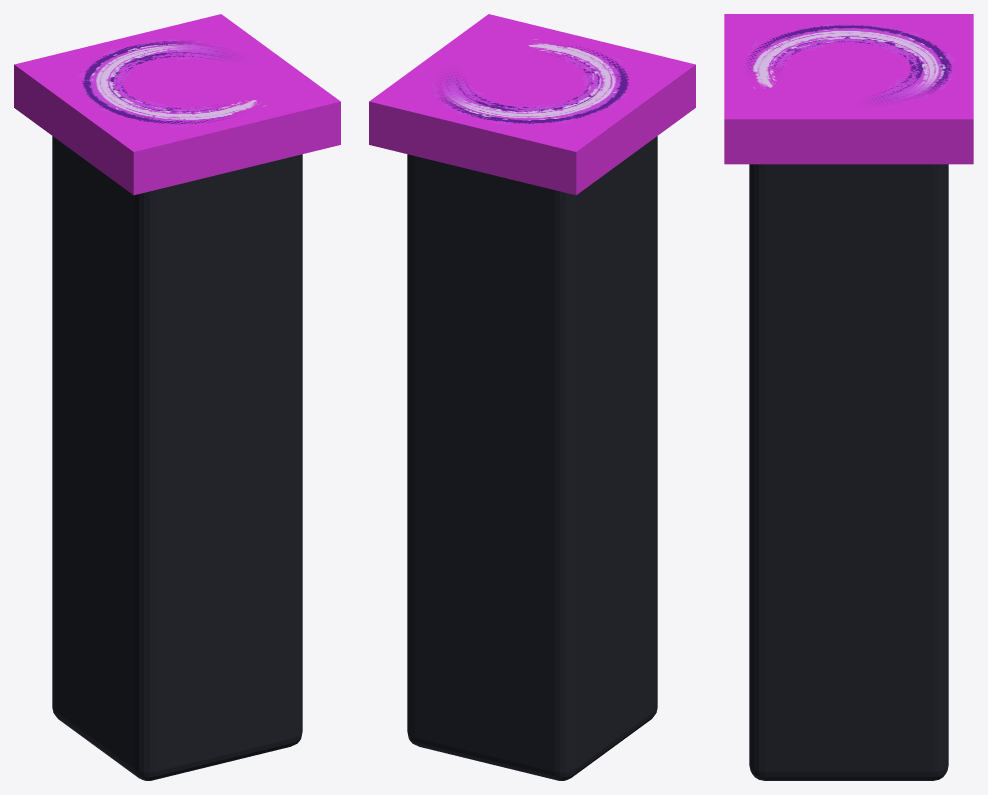
The model's file is health_tower.glb.
3 views of the same model, side by side, from view 1: azimuth 30°, elevation 25°; view 2: azimuth 150°, elevation 25°; view 3: azimuth 270°, elevation 25° (orthographic). The views are drawn at different scales.
Visible parts, largest first — view 1: Cube.001, Cube; view 2: Cube.001, Cube; view 3: Cube.001, Cube.
Boxes of the visible parts, x1,y1,x2,y2 form: Cube.001: (52, 136, 302, 780); Cube: (14, 14, 340, 195); Cube.001: (407, 136, 657, 780); Cube: (369, 14, 695, 195); Cube.001: (749, 164, 948, 780); Cube: (724, 14, 973, 164).
Size of the model in its own units: 1 by 3 by 1.
Materials: 2 (1 with a texture image).
